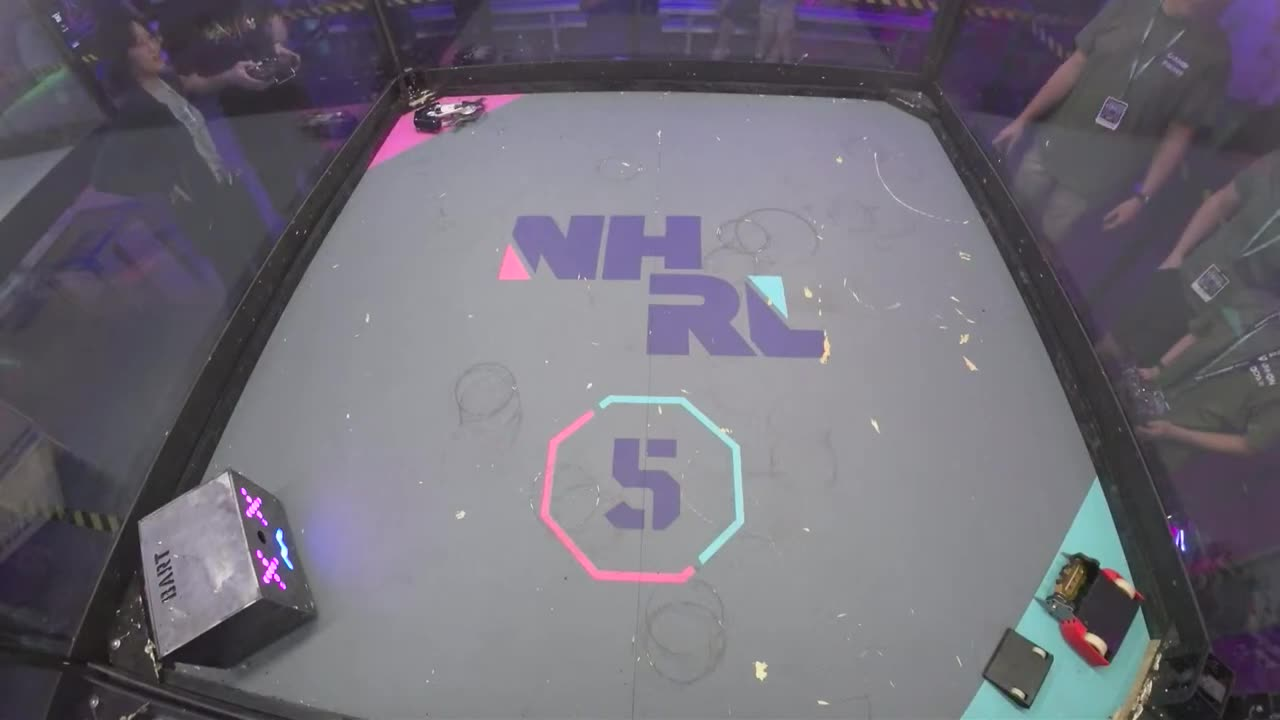combatbot: (1038, 551, 1146, 669), (410, 94, 489, 136)
housebot: (137, 470, 321, 674)
minibot: (976, 629, 1056, 711)
